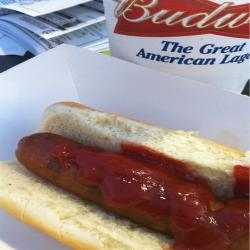hotdog: (9, 102, 249, 249)
